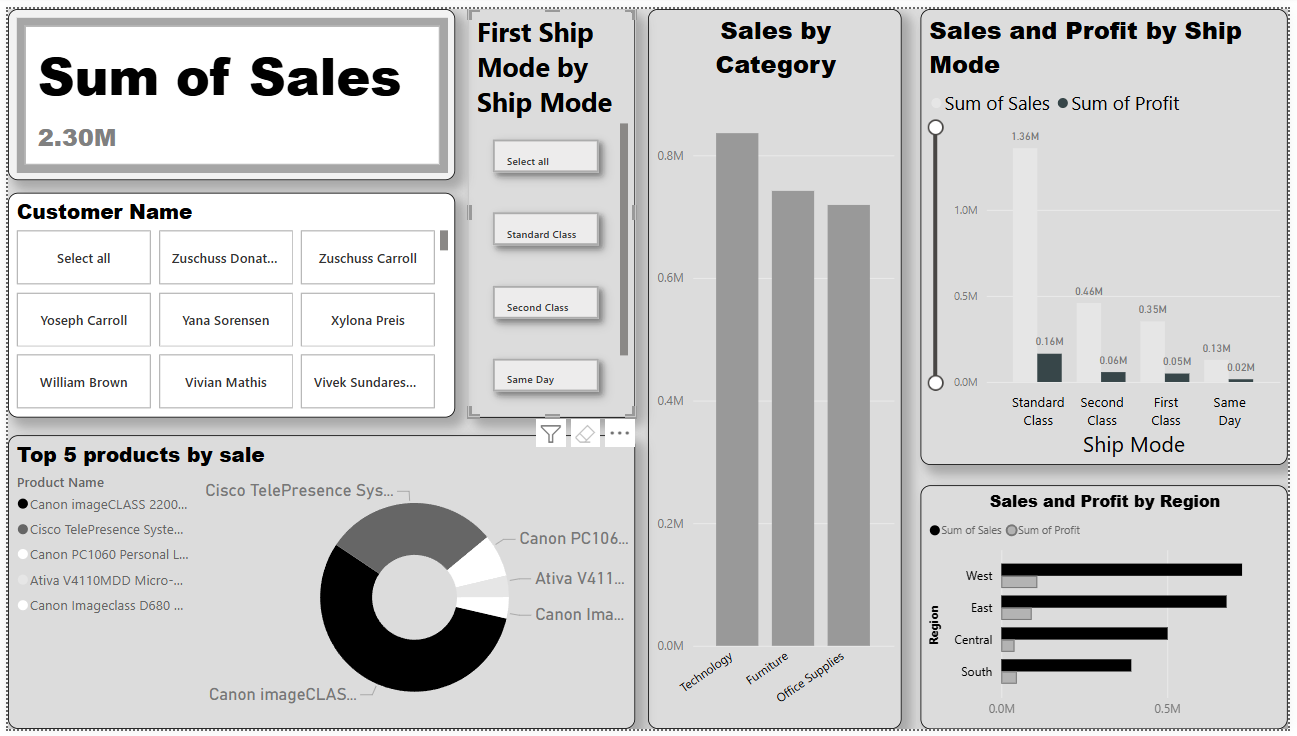

This screenshot's page, from the dashboard's own definition file:
{"tool":"powerbi","page":{"name":"Page 1","canvas":[1280,720],"ordinal":0},"visuals":[{"type":"cardVisual","fields":{"Data":["Sum(Orders.Sales)"]},"box":[0,0,447.5,171.2],"z":0},{"type":"columnChart","title":" Sales by Category","fields":{"Category":["Orders.Category"],"Y":["Sum(Orders.Sales)"]},"box":[640,0,253.8,720],"z":1000},{"type":"advancedSlicerVisual","fields":{"Values":["Orders.Customer Name"]},"box":[0,183.8,447.5,225],"z":2000},{"type":"donutChart","title":"Top 5 products by sale","fields":{"Category":["Orders.Product Name"],"Y":["Sum(Orders.Sales)"]},"box":[0,426.2,627.5,293.8],"z":3000},{"type":"advancedSlicerVisual","fields":{"Values":["Orders.Ship Mode"]},"box":[460,0,167.5,408.8],"z":4000},{"type":"clusteredColumnChart","title":" Sales and  Profit by Ship Mode","fields":{"Y":["Sum(Orders.Sales)","Sum(Orders.Profit)"],"Category":["Orders.Ship Mode"]},"box":[912.5,0,367.5,456.2],"z":5000},{"type":"clusteredBarChart","title":"Sales and Profit by Region","fields":{"Y":["Sum(Orders.Sales)","Sum(Orders.Profit)"],"Category":["Orders.Region"]},"box":[912.5,476.2,367.5,243.8],"z":6000}]}

Visuals, with their boxes in screenshot pixels (x1, y1, x2, y2), scaled from the page's 1280x720 canvas onto the 1297x736 screenshot:
cardVisual - Sum(Orders.Sales): l=0, t=0, r=453, b=175
" Sales by Category" columnChart: l=648, t=0, r=906, b=735
advancedSlicerVisual - Orders.Customer Name: l=0, t=188, r=453, b=418
"Top 5 products by sale" donutChart: l=0, t=436, r=636, b=735
advancedSlicerVisual - Orders.Ship Mode: l=466, t=0, r=636, b=418
" Sales and  Profit by Ship Mode" clusteredColumnChart: l=925, t=0, r=1296, b=466
"Sales and Profit by Region" clusteredBarChart: l=925, t=487, r=1296, b=735
